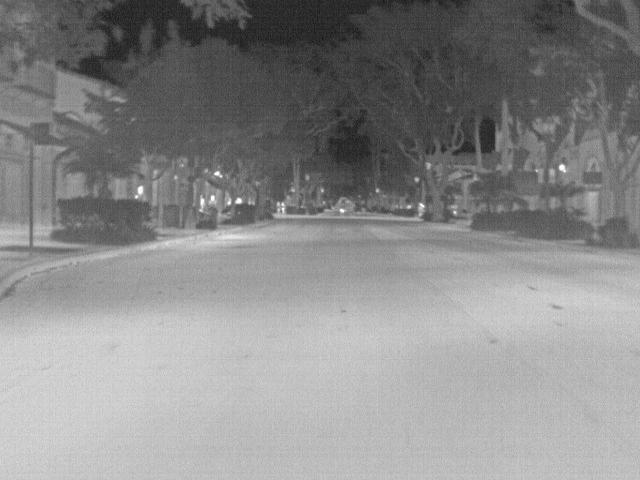person: (133, 184, 148, 202), (198, 194, 208, 213), (208, 193, 218, 211), (277, 198, 283, 214), (419, 204, 427, 216), (281, 200, 286, 214), (235, 196, 242, 203)
